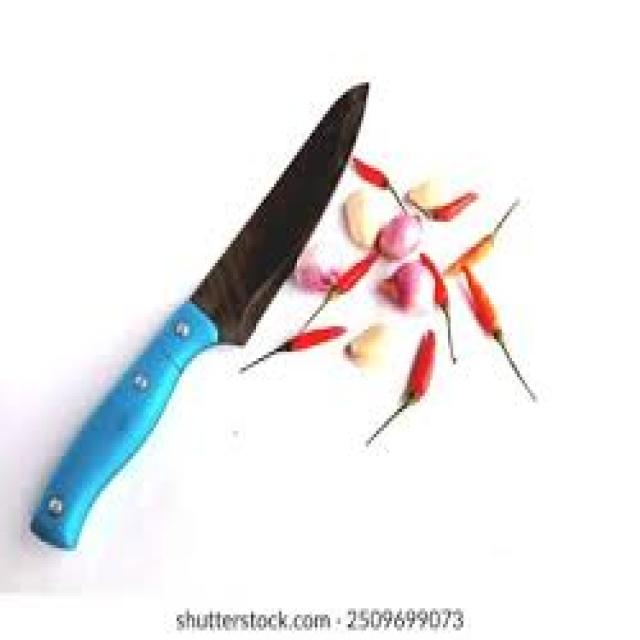Knife: (28, 79, 369, 548)
